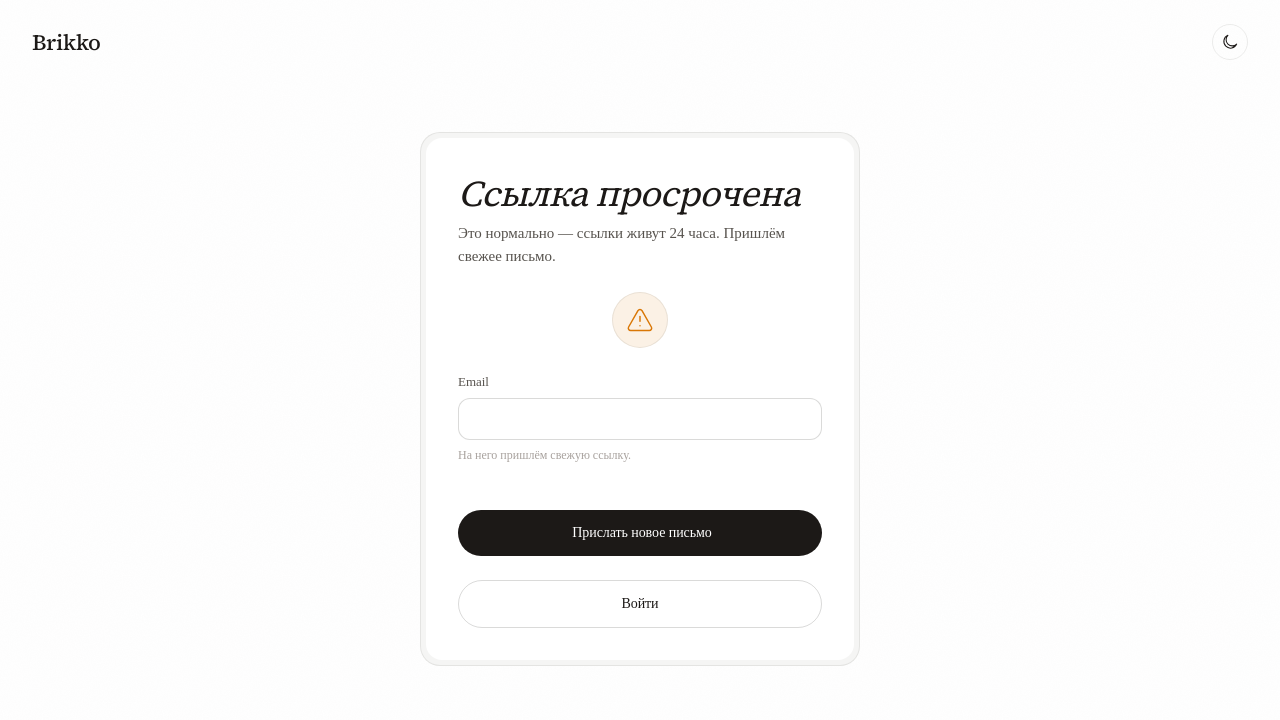
Test case: /auth/verify-email expired-state › невалидный email — error, mutation не вызывается
Type "not-an-email" into the field with test id "verify-email-input". click: (640, 419)
box: 458,398 -> 822,440
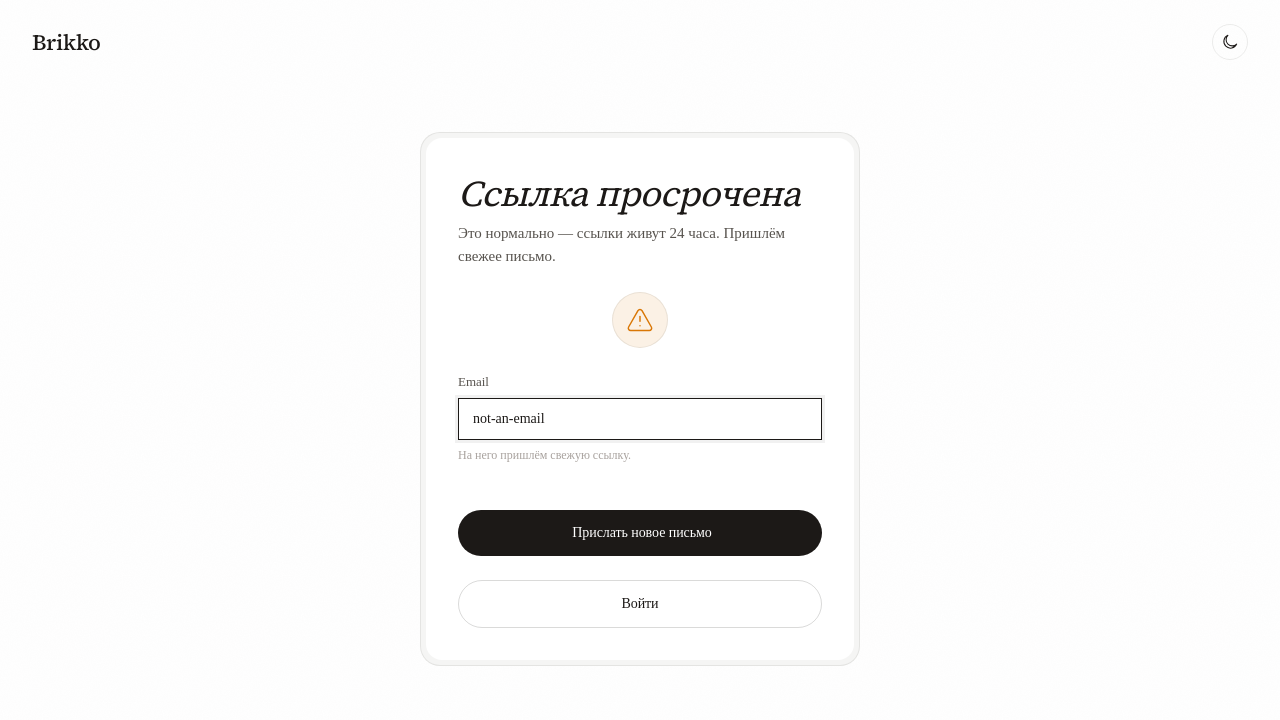
Click the button with test id "resend-verification-cta". click: (640, 533)
box: 458,510 -> 822,556
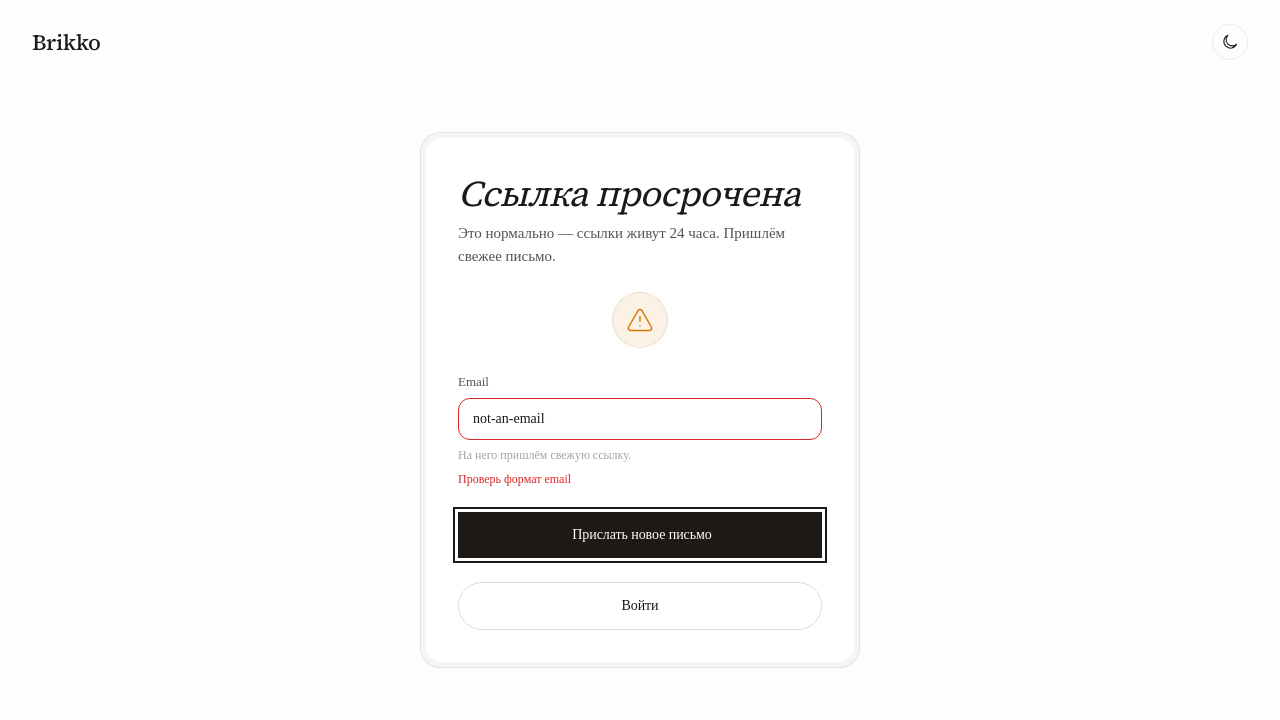
Result: the text "Проверь формат email" is shown at 458,472 -> 571,486
